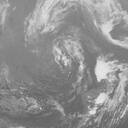cyclone: (48, 34, 90, 71)
